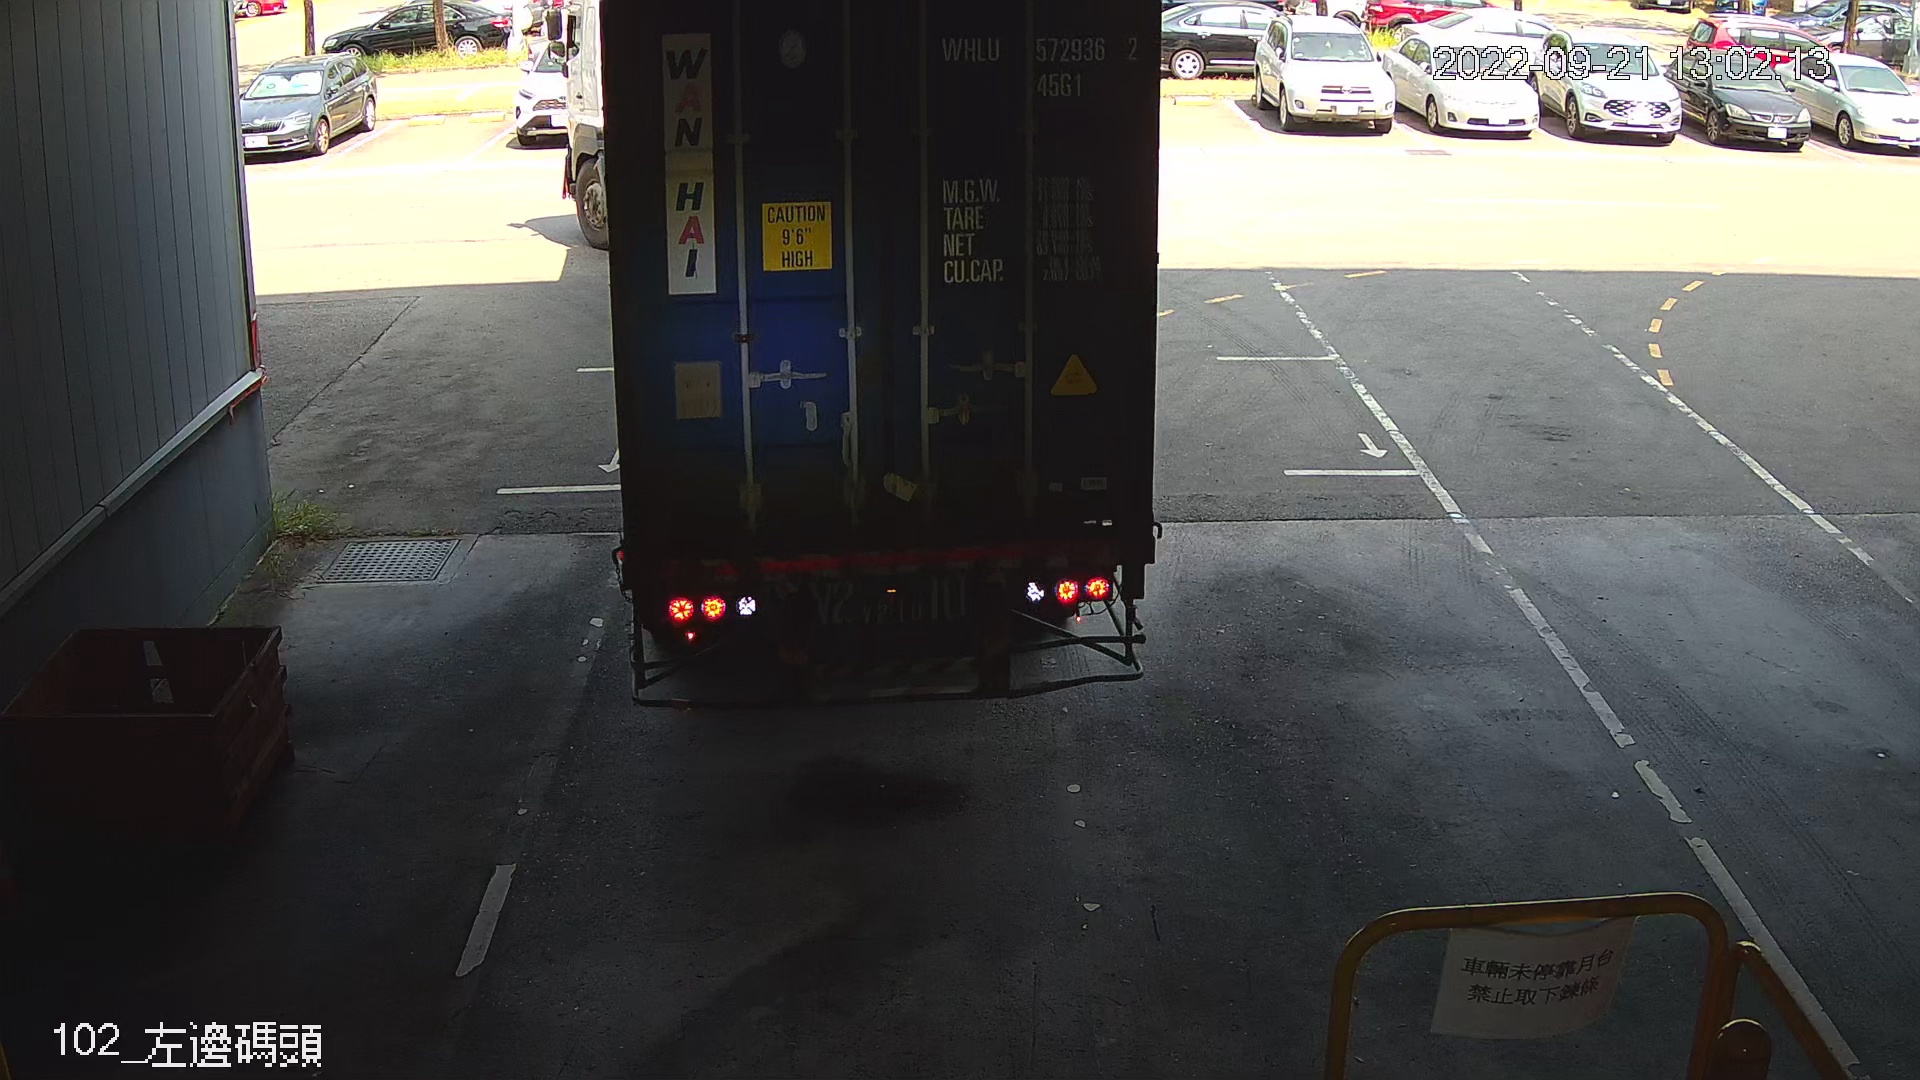container: (935, 24, 1149, 107)
